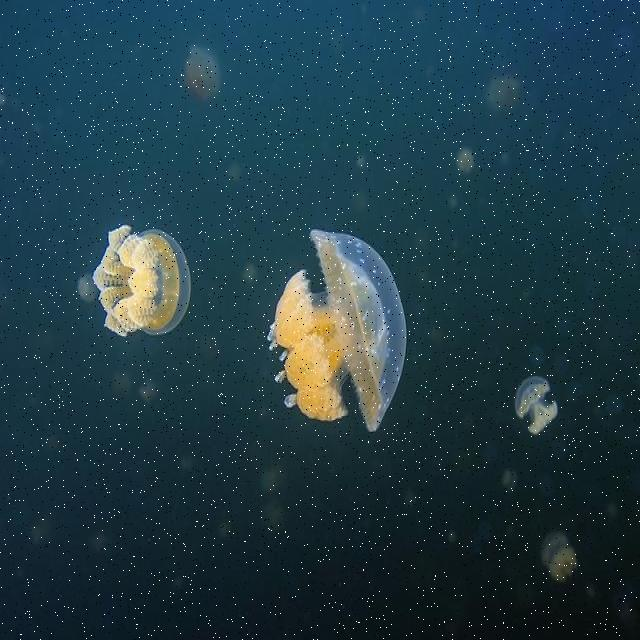reefs: (264, 229, 408, 431), (90, 224, 191, 338), (516, 377, 559, 436), (538, 529, 579, 583)
